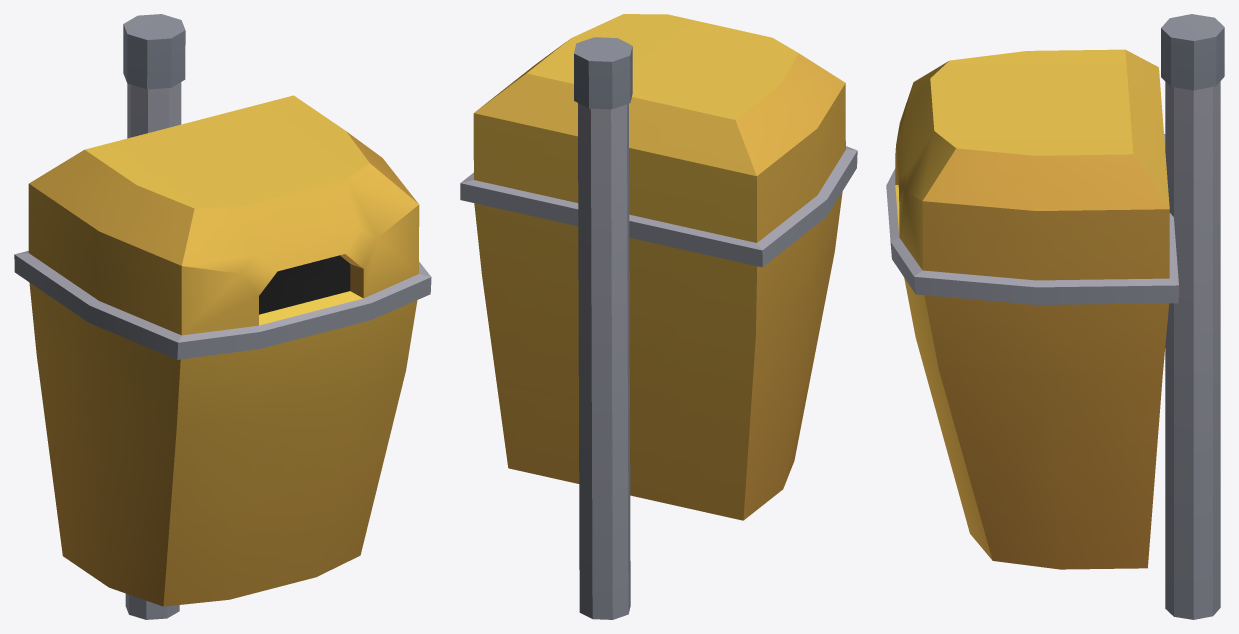
File: Infra_trashBin_mdl.fbx
The picture shows the model from 3 angles, left to right: view 1: azimuth 30°, elevation 25°; view 2: azimuth 150°, elevation 25°; view 3: azimuth 270°, elevation 25°; orthographic projection. The views are drawn at different scales.
Parts seen in each view (by area): view 1: trashBin_mesh; view 2: trashBin_mesh; view 3: trashBin_mesh.
Part boxes in pixels (box(x1,y1,x2,y2)): trashBin_mesh: box(14, 14, 431, 619); trashBin_mesh: box(460, 14, 857, 619); trashBin_mesh: box(886, 14, 1224, 619).
Bounding box in the file's own units: 69.78 × 124 × 65.47.
